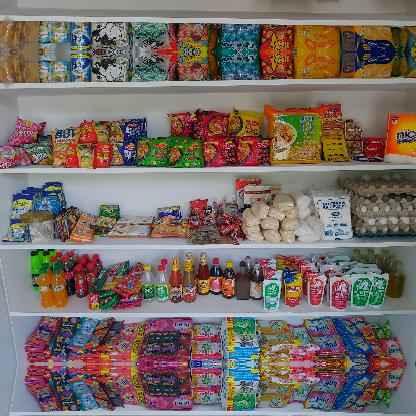Lady-s-Choice: (20, 210, 54, 244)
